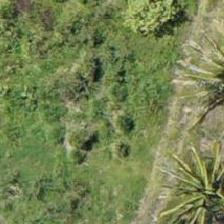coconut_tree: (163, 148, 223, 223)
